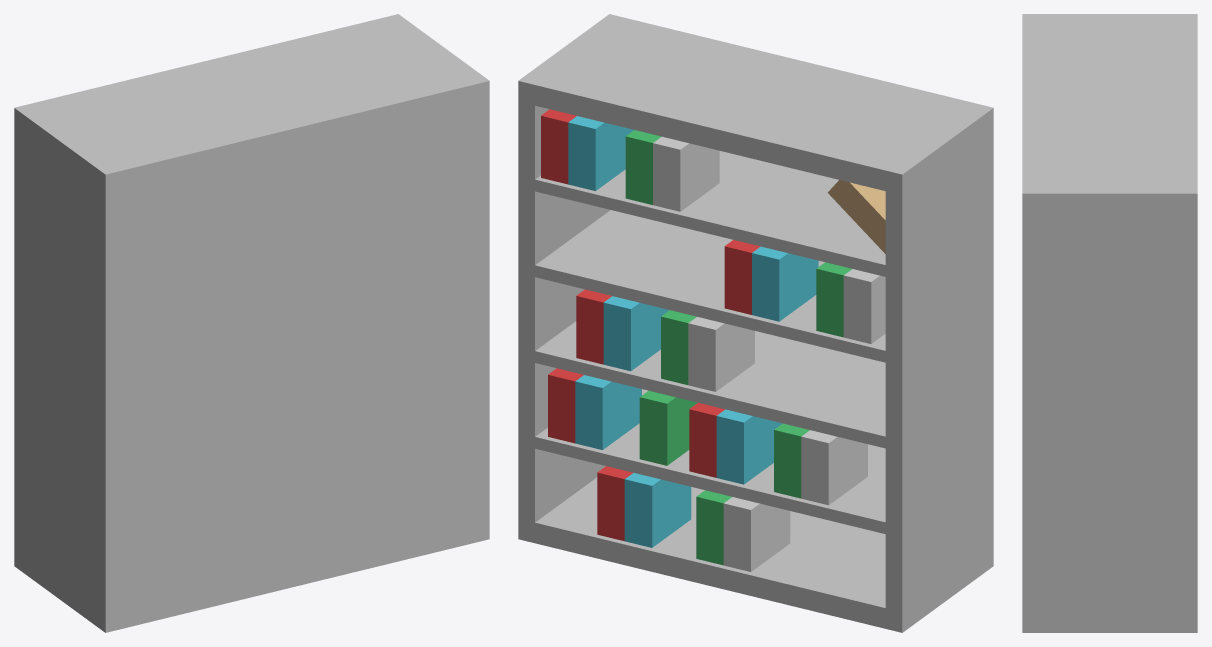
File: cqf_bookshelf.obj
The picture shows the model from 3 angles, left to right: view 1: azimuth 30°, elevation 25°; view 2: azimuth 150°, elevation 25°; view 3: azimuth 270°, elevation 25°; orthographic projection. The views are drawn at different scales.
Bounding box in the file's own units: 1.36 × 1.55 × 0.56.
